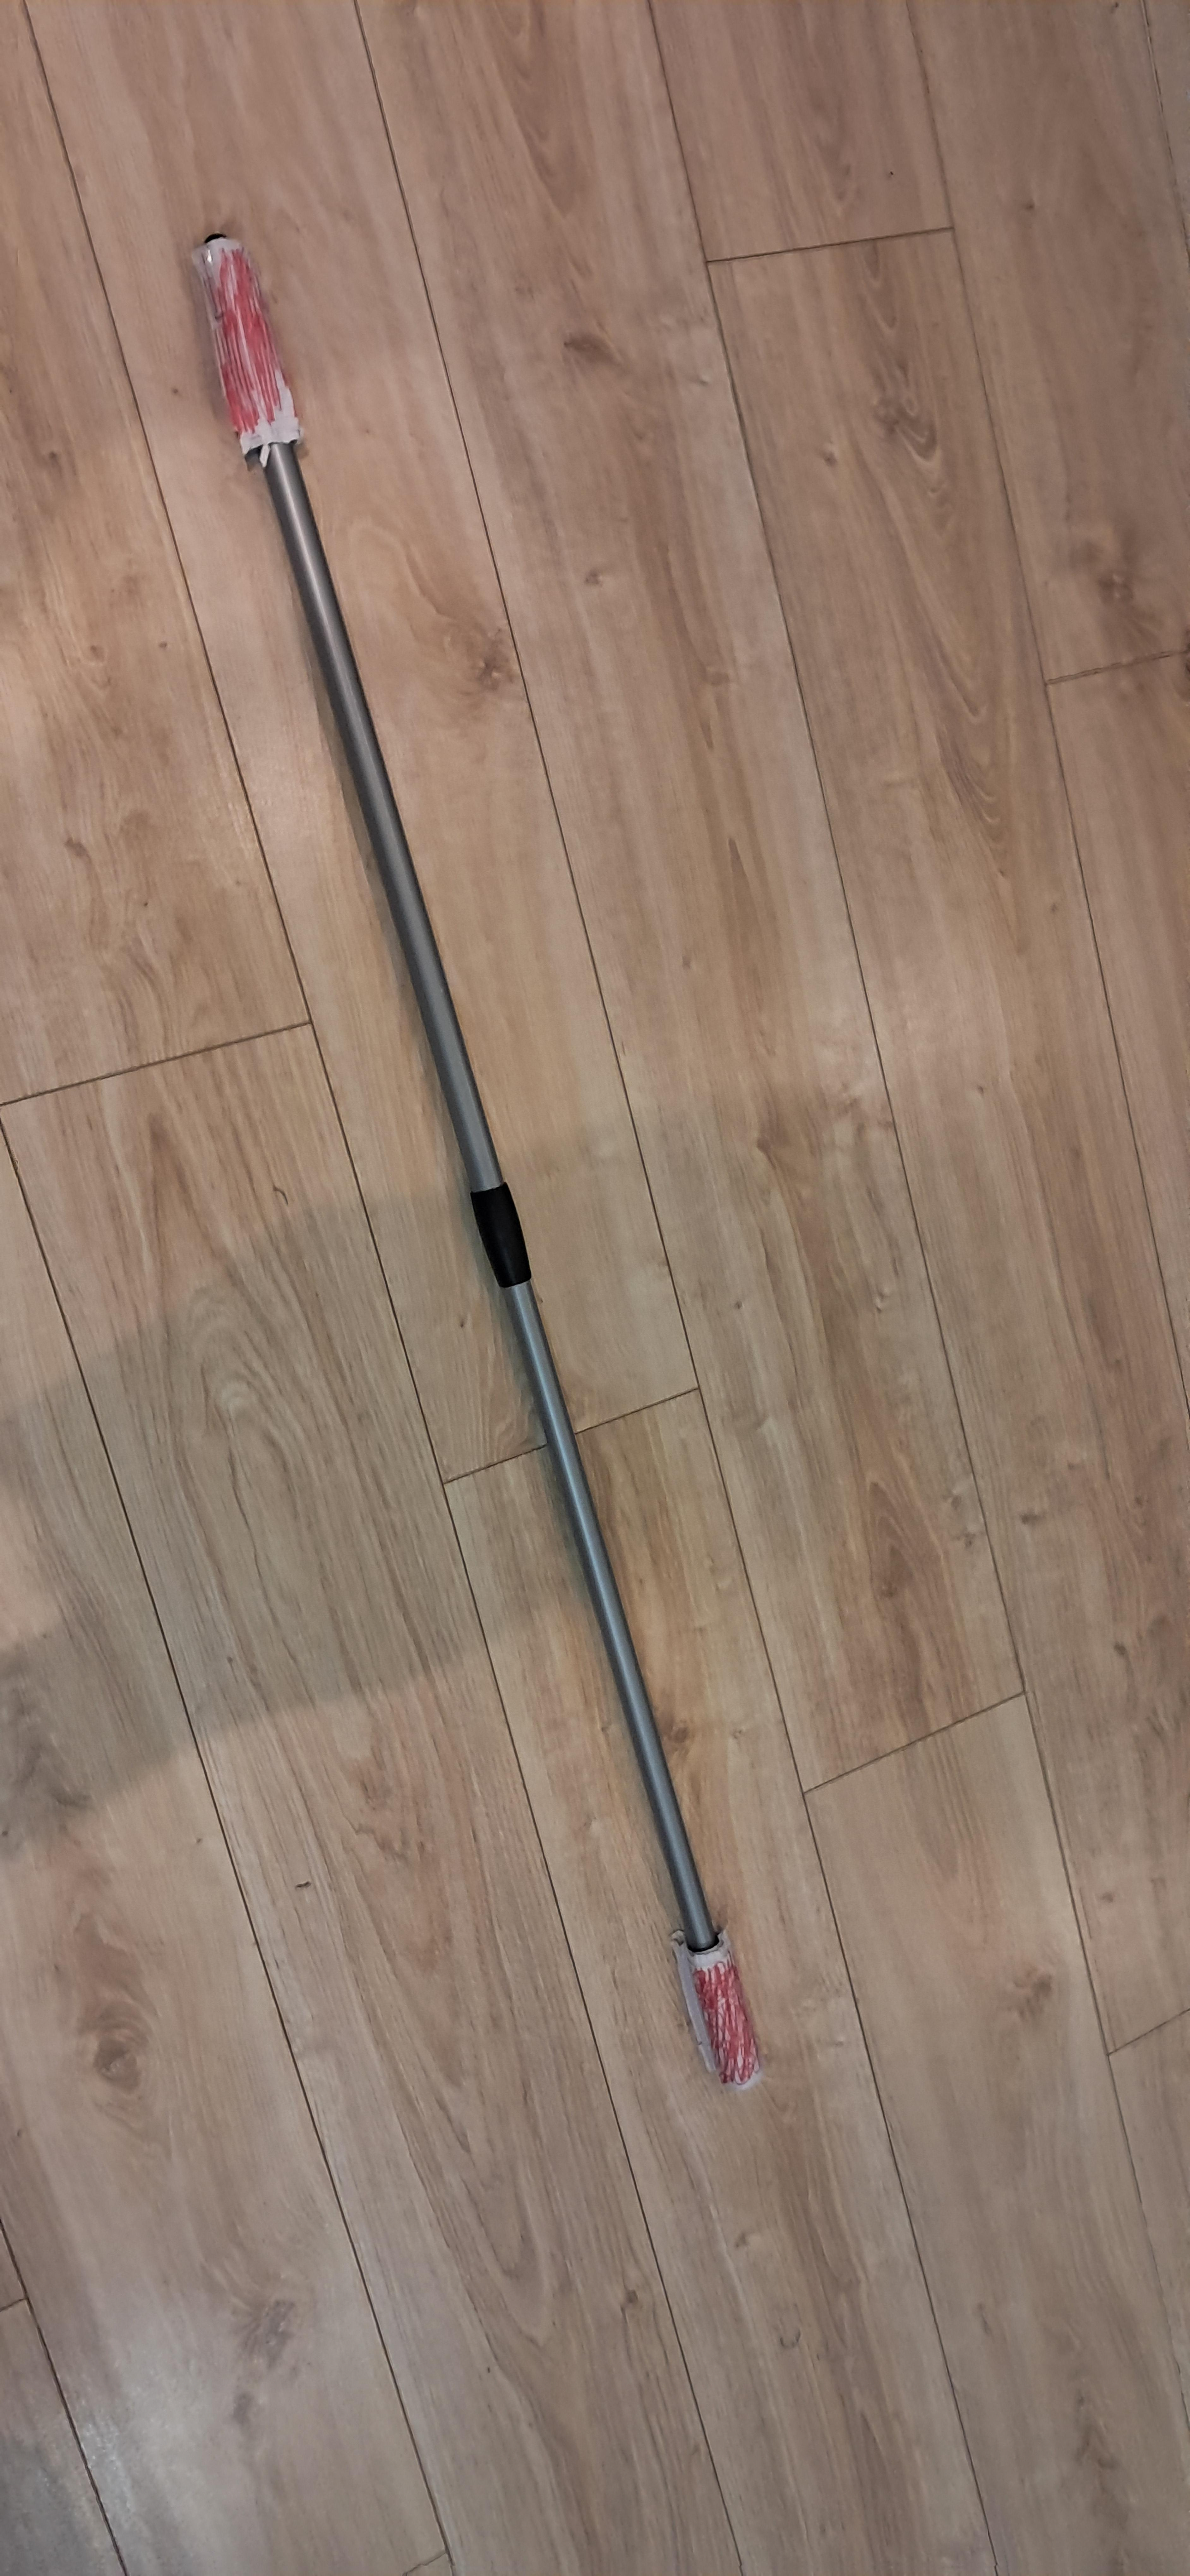broom-handle: (196, 237, 759, 2086)
